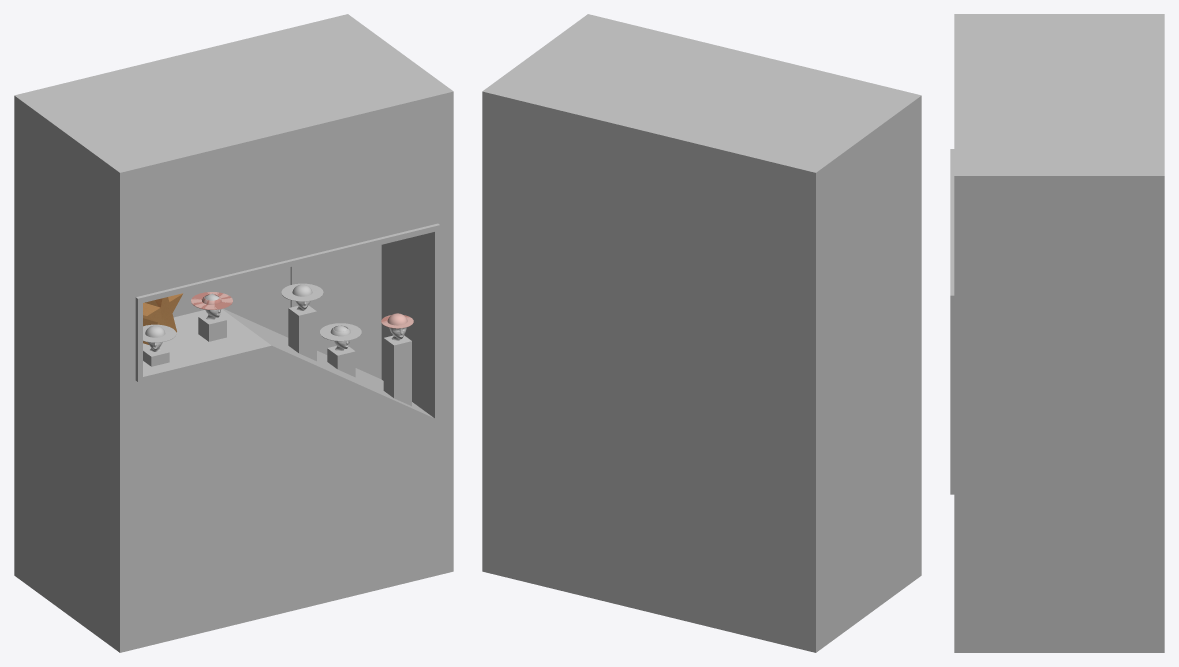
The picture shows the model from 3 angles, left to right: view 1: azimuth 30°, elevation 25°; view 2: azimuth 150°, elevation 25°; view 3: azimuth 270°, elevation 25°; orthographic projection.
Parts seen in each view (by area): view 1: Cube8, Cube8_Banner, Cube8_Stand 03, Cube8_Stand 01, Cube8_Star, Cube8_Stand 02, Cube8_Stand 004, Cube8_Hat 01; view 2: Cube8; view 3: Cube8.
Part boxes in pixels (bbox=[...]): Cube8: bbox=[14, 14, 453, 652]; Cube8_Banner: bbox=[290, 248, 368, 325]; Cube8_Stand 03: bbox=[383, 335, 411, 406]; Cube8_Stand 01: bbox=[288, 305, 316, 361]; Cube8_Star: bbox=[143, 293, 182, 344]; Cube8_Stand 02: bbox=[327, 346, 355, 377]; Cube8_Stand 004: bbox=[198, 314, 226, 341]; Cube8_Hat 01: bbox=[281, 283, 323, 301]; Cube8: bbox=[482, 14, 921, 652]; Cube8: bbox=[950, 14, 1164, 652].
Size of the model in its own units: 9.25 by 12.71 by 5.18.
